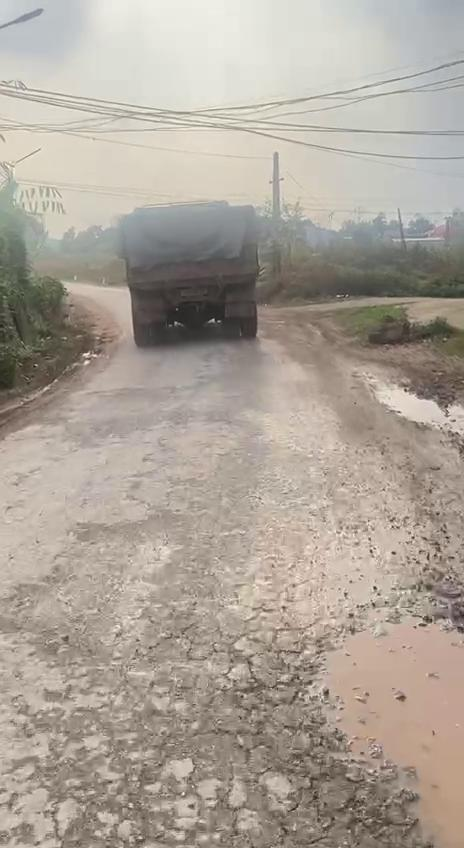pothole: (293, 603, 464, 848)
